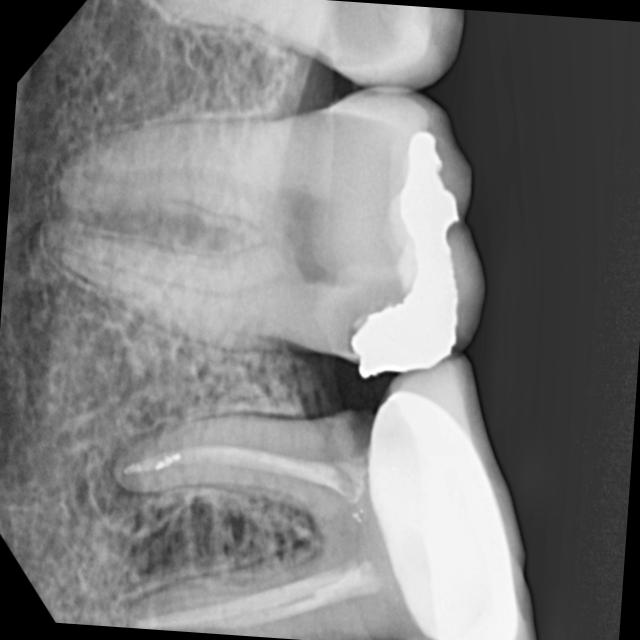Caries: (287, 369, 393, 470)
Crown: (352, 375, 535, 640)
Restoration: (334, 91, 482, 382)
